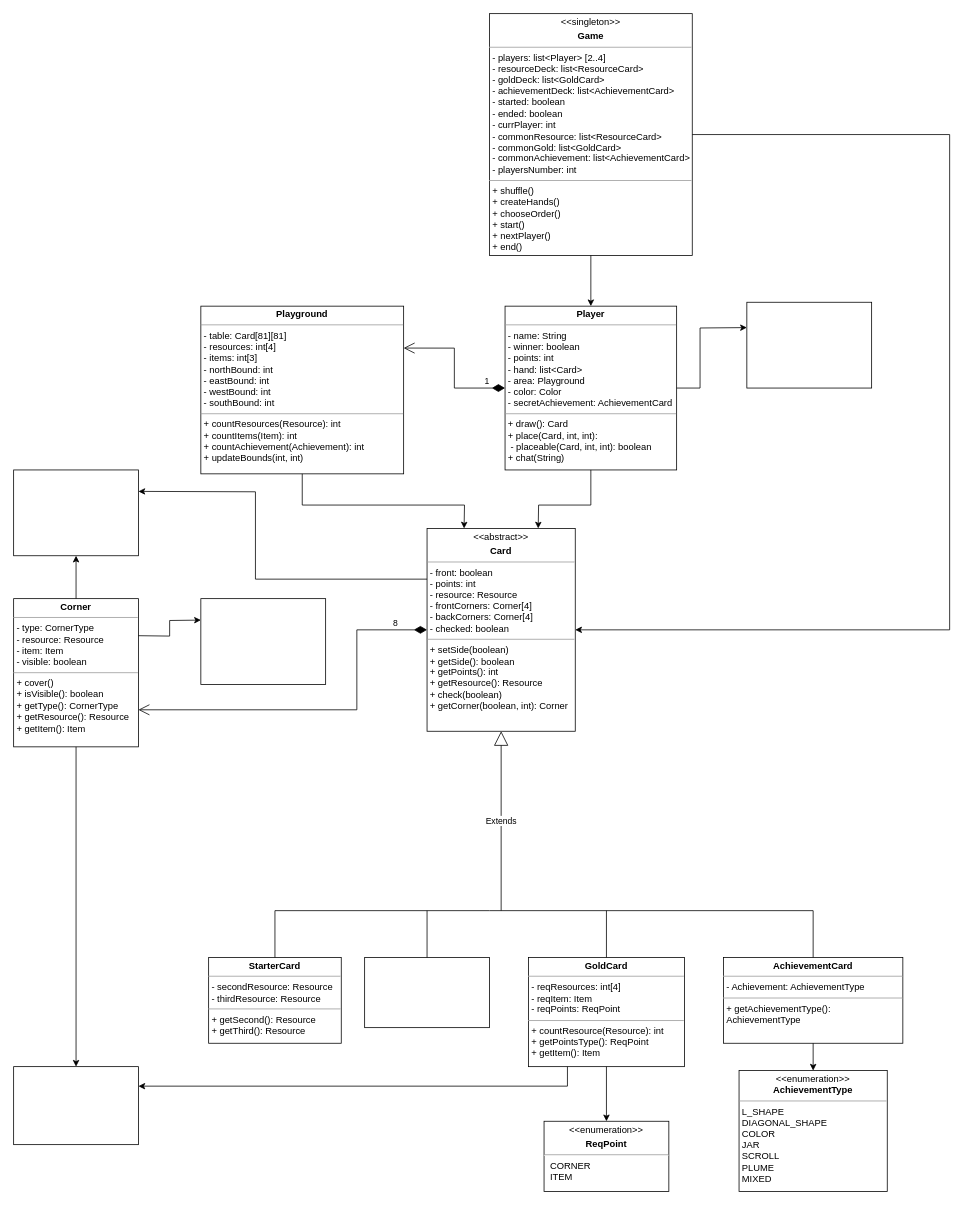
Image size: 970x1205. Some labels were removed from this diagram. Each missing label, with the box of its shape:
<<enumeration>> Color RED BLUE GREEN YELLOW: (746, 301, 872, 388)
<<enumeration>> CornerType RESOURCE ITEM FREE DEAD: (200, 598, 326, 684)
<<enumeration>> Item JAR SCROLL PLUME: (13, 1066, 138, 1145)
<<enumeration>> Resource WOLF BUTTERFLY LEAF MUSHROOM: (13, 469, 138, 556)
ResourceCard: (364, 957, 489, 1028)
